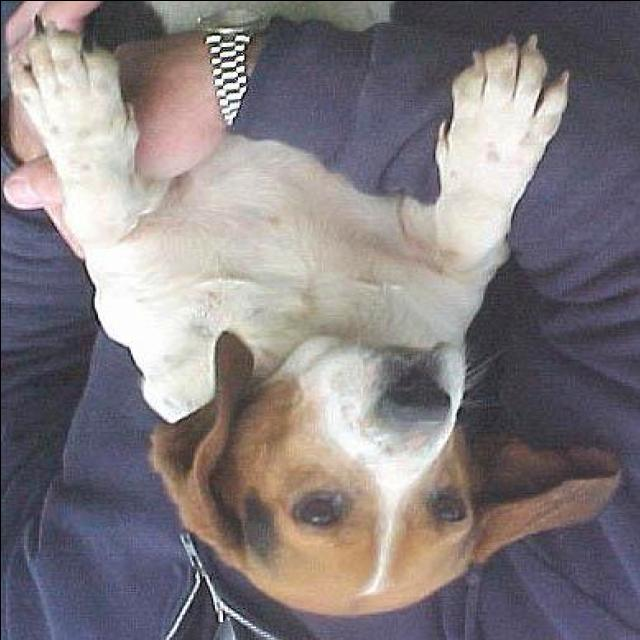beagle: (3, 9, 617, 621)
